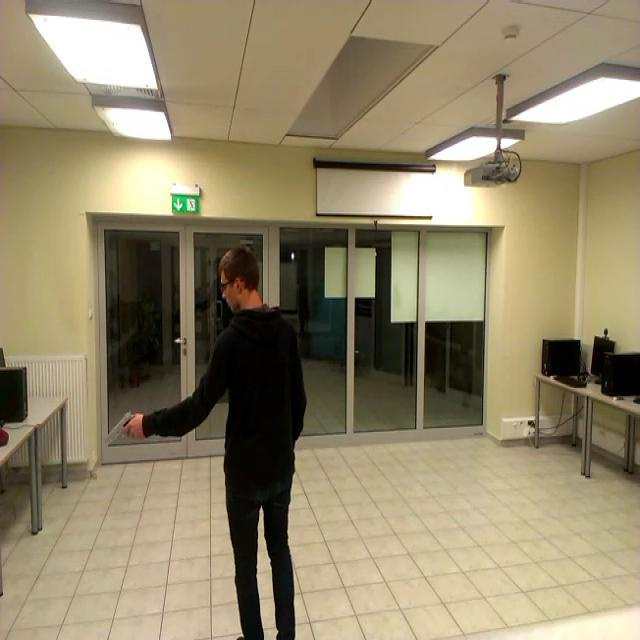Gun: (106, 410, 141, 441)
